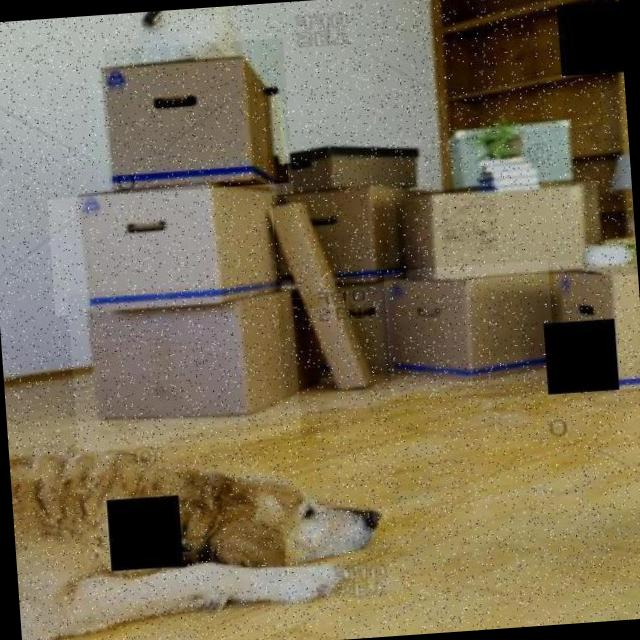box: (68, 278, 302, 452), (47, 182, 300, 315), (103, 38, 293, 200), (393, 176, 608, 294), (382, 260, 557, 400), (271, 186, 412, 299), (552, 255, 640, 393), (304, 276, 398, 382), (286, 138, 426, 194)
